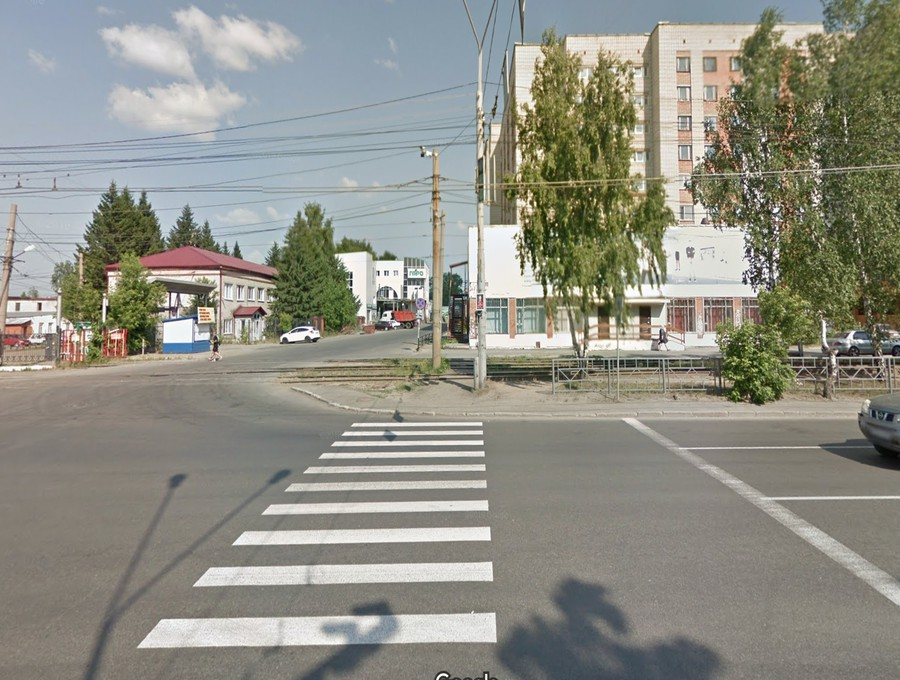Traffic Light-red: (474, 292, 487, 314)
